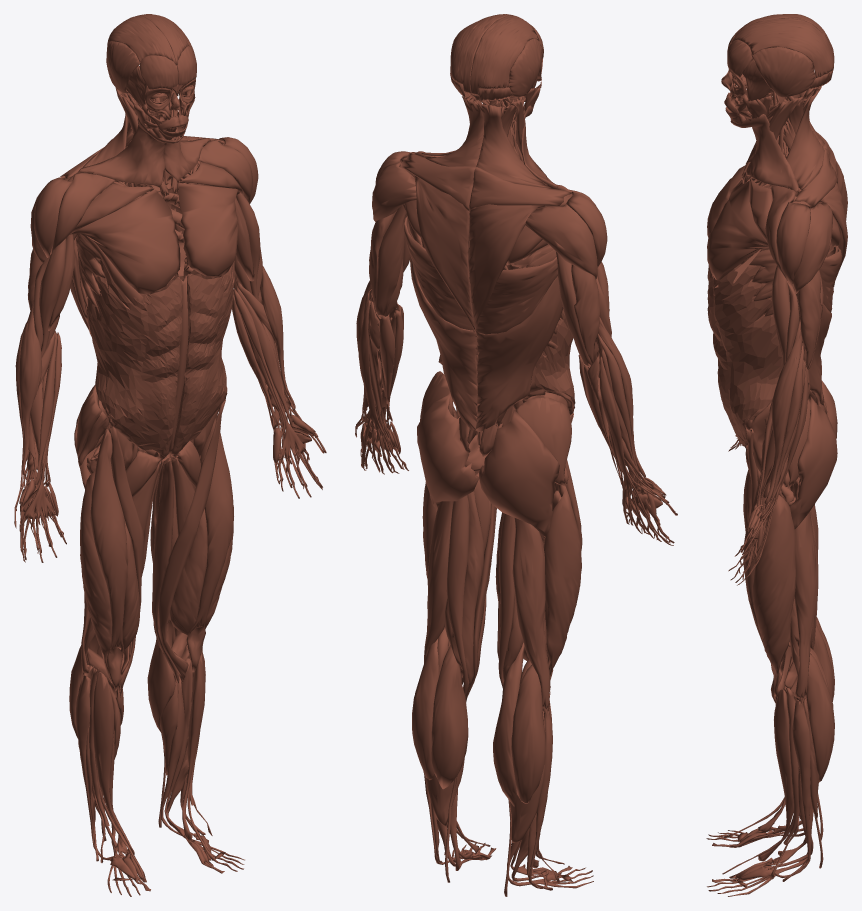
Rendered from body.glb.
3 views of the same model, side by side, from view 1: azimuth 30°, elevation 25°; view 2: azimuth 150°, elevation 25°; view 3: azimuth 270°, elevation 25° (orthographic). The views are drawn at different scales.
Visible parts, largest first — view 1: External abdominal oblique muscle.012, External abdominal oblique muscle, Sternocostal head of pectoralis major muscle.007, Rectus femoris muscle.001, Sternocostal head of pectoralis major muscle.006, Rectus femoris muscle, Sartorius muscle, Vastus lateralis muscle.003, Platysma.001, Vastus medialis muscle, Gracilis muscle.002, Tibialis anterior muscle.007 (+44 smaller); view 2: Latissimus dorsi muscle.005, Gluteus maximus muscle.005, Latissimus dorsi muscle.002, Vastus lateralis muscle.003, Descending part of trapezius muscle, Long head of biceps femoris.003, Descending part of trapezius muscle.003, Gluteus maximus muscle.002, Medial head of gastrocnemius, Lateral head of gastrocnemius.003, Epicranial aponeurosis.001, Scapular spinal part of deltoid muscle.003 (+35 smaller); view 3: External abdominal oblique muscle, Vastus lateralis muscle, Sternocostal head of pectoralis major muscle.006, Gluteus maximus muscle.002, Long head of biceps femoris, Epicranial aponeurosis, Lateral head of gastrocnemius, Temporoparietalis muscle, Platysma, Brachioradialis muscle.002, Acromial part of deltoid muscle, Scapular spinal part of deltoid muscle (+35 smaller).
Boxes of the visible parts, <box> form: External abdominal oblique muscle.012: <box>86,260,182,450</box>; External abdominal oblique muscle: <box>176,261,234,447</box>; Sternocostal head of pectoralis major muscle.007: <box>70,189,180,294</box>; Rectus femoris muscle.001: <box>90,429,127,691</box>; Sternocostal head of pectoralis major muscle.006: <box>178,183,239,276</box>; Rectus femoris muscle: <box>186,418,233,672</box>; Sartorius muscle: <box>158,398,225,682</box>; Vastus lateralis muscle.003: <box>80,472,112,683</box>; Platysma.001: <box>78,118,176,187</box>; Vastus medialis muscle: <box>169,509,207,656</box>; Gracilis muscle.002: <box>152,458,179,683</box>; Tibialis anterior muscle.007: <box>93,672,134,854</box>; Latissimus dorsi muscle.005: <box>475,256,563,431</box>; Gluteus maximus muscle.005: <box>479,410,559,537</box>; Latissimus dorsi muscle.002: <box>404,216,477,430</box>; Vastus lateralis muscle.003: <box>543,484,581,676</box>; Descending part of trapezius muscle: <box>414,175,476,332</box>; Long head of biceps femoris.003: <box>512,518,550,708</box>; Descending part of trapezius muscle.003: <box>469,204,545,333</box>; Gluteus maximus muscle.002: <box>417,394,479,509</box>; Medial head of gastrocnemius: <box>431,645,468,789</box>; Lateral head of gastrocnemius.003: <box>511,665,545,803</box>; Epicranial aponeurosis.001: <box>470,15,539,95</box>; Scapular spinal part of deltoid muscle.003: <box>525,204,597,279</box>; External abdominal oblique muscle: <box>707,264,783,445</box>; Vastus lateralis muscle: <box>752,495,795,696</box>; Sternocostal head of pectoralis major muscle.006: <box>707,181,768,280</box>; Gluteus maximus muscle.002: <box>790,396,837,529</box>; Long head of biceps femoris: <box>794,512,818,699</box>; Epicranial aponeurosis: <box>731,18,834,78</box>; Lateral head of gastrocnemius: <box>806,653,834,782</box>; Temporoparietalis muscle: <box>752,46,814,97</box>; Platysma: <box>730,114,798,192</box>; Brachioradialis muscle.002: <box>764,317,802,505</box>; Acromial part of deltoid muscle: <box>776,202,810,285</box>; Scapular spinal part of deltoid muscle: <box>793,203,832,293</box>.
Size of the model in its own units: 0.6595 by 1.7 by 0.2582.
